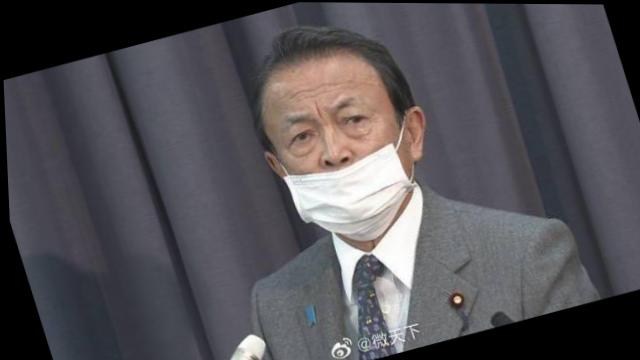WRONG: (260, 75, 427, 252)
